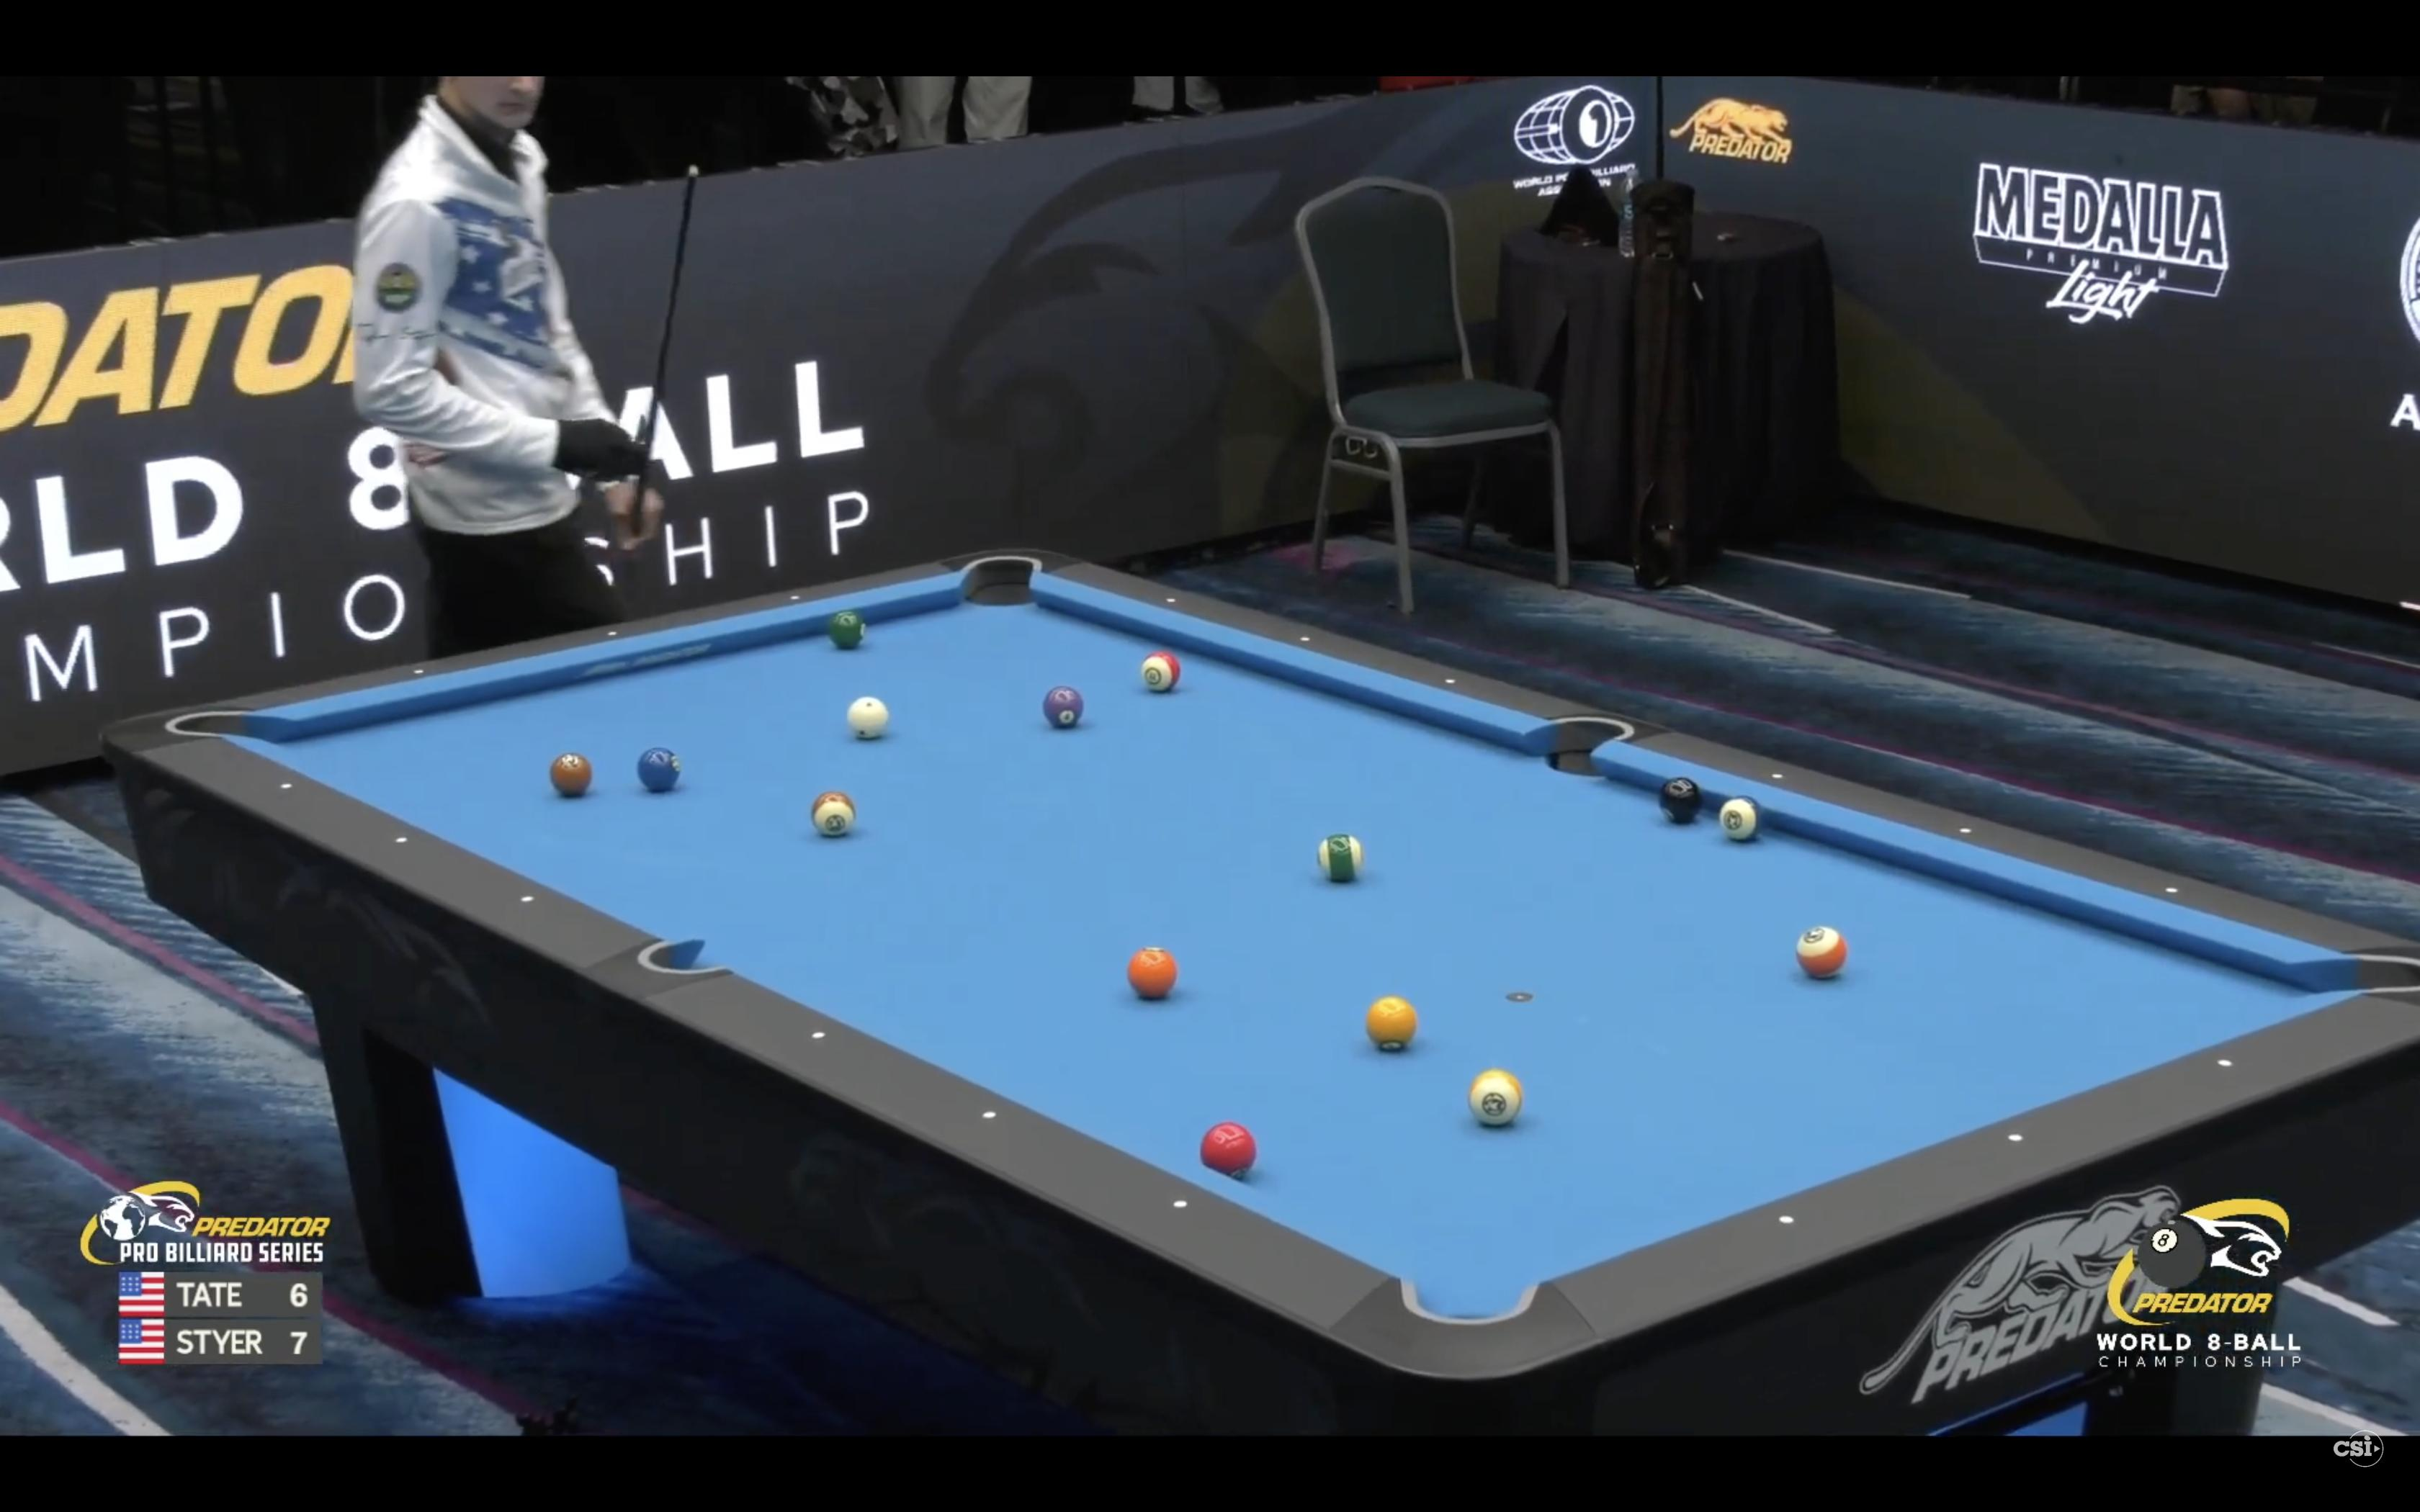Black: (1657, 775, 1706, 826)
Cue: (847, 695, 890, 740)
Dot: (1777, 1214, 1796, 1226), (2007, 1132, 2025, 1143), (2216, 1059, 2234, 1068), (983, 1110, 997, 1120), (1173, 1198, 1188, 1207), (279, 782, 293, 789), (521, 895, 535, 902), (812, 1031, 826, 1038), (2166, 887, 2180, 894), (1958, 827, 1972, 834), (1770, 772, 1784, 779), (395, 836, 408, 843), (1444, 678, 1457, 685), (789, 594, 800, 601), (1300, 636, 1310, 643), (413, 669, 425, 674), (608, 631, 619, 636), (1166, 597, 1176, 603)
Solid: (1199, 1120, 1260, 1179), (1361, 995, 1422, 1050), (1126, 944, 1181, 1002), (634, 747, 681, 793), (549, 751, 592, 796), (1040, 685, 1085, 728), (828, 610, 866, 648)
Striped: (1469, 1068, 1524, 1129), (1795, 925, 1852, 982), (1315, 834, 1366, 883), (1718, 794, 1765, 845), (810, 789, 857, 838), (1141, 650, 1183, 695)
